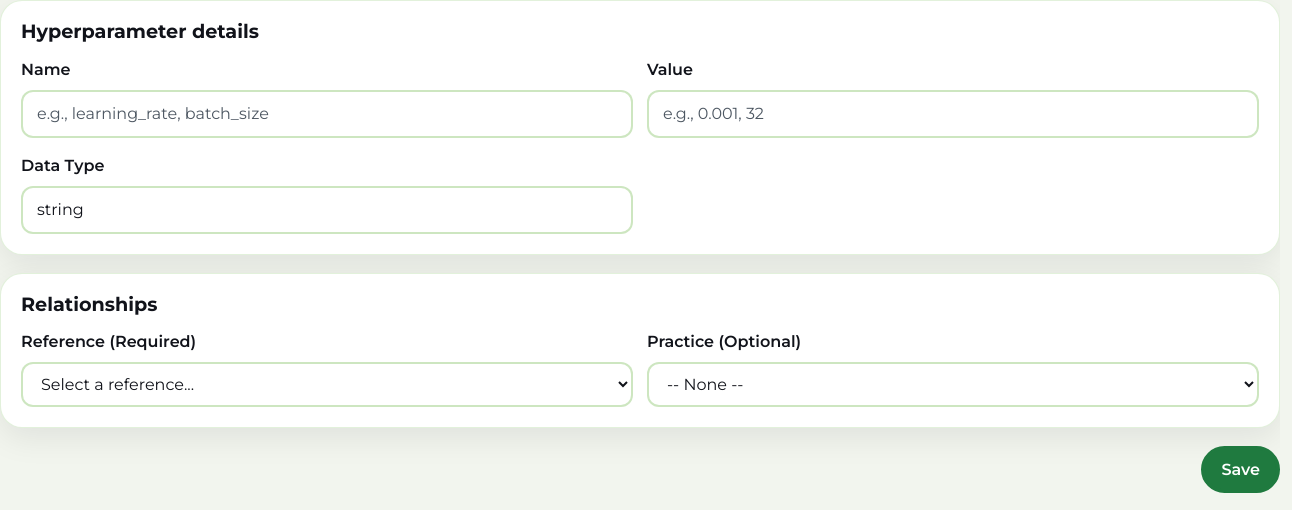
Scenario: HyperparameterForm › disables save button while saving
Step 1. Type "learning_rate" into the field labelled "Name" → (327, 114), box [21,90,633,138]
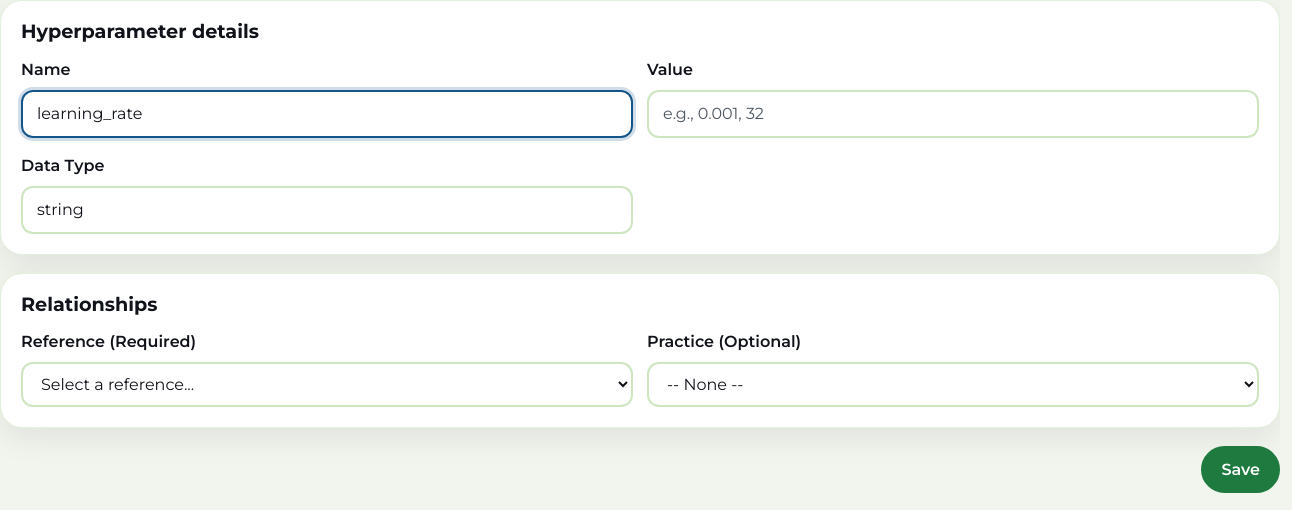
Step 2. Type "0.001" into the field labelled "Value" → (953, 114), box [647,90,1259,138]
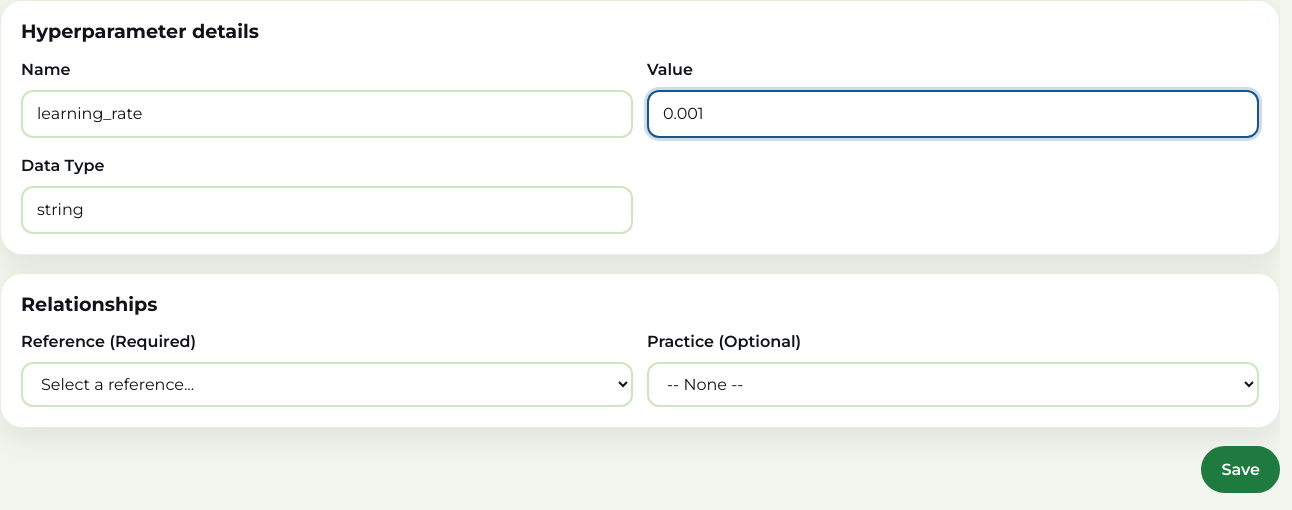
Step 3. Select "Paper A (2024)" in the dropdown labelled "Reference (Required)" → (327, 385), box [21,362,633,408]
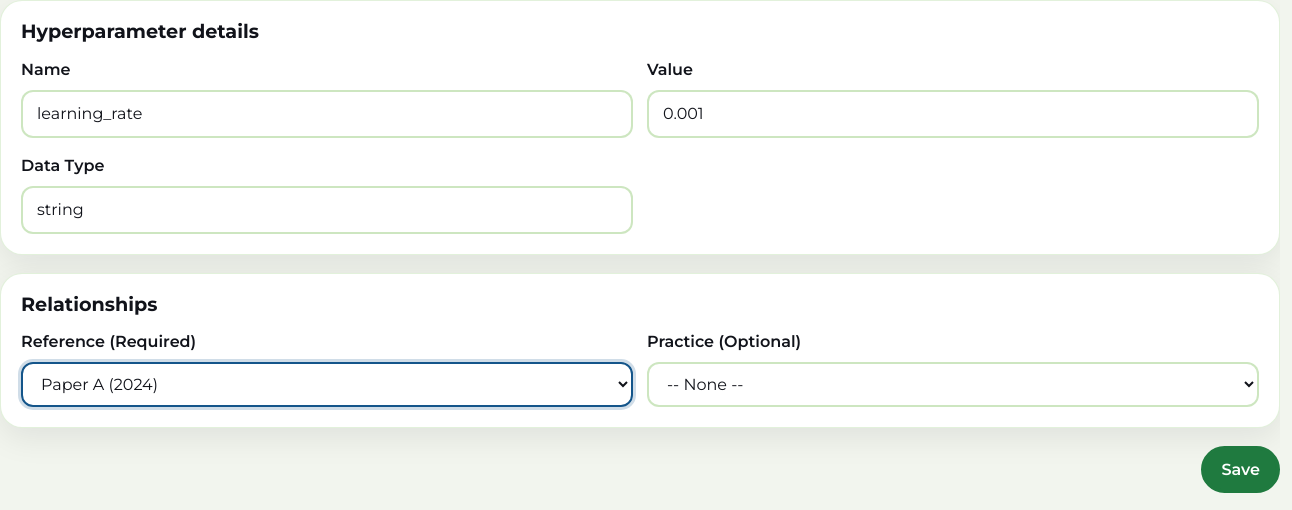
Step 4. Click the button "Save" → click(1241, 470), box [1201,446,1280,494]
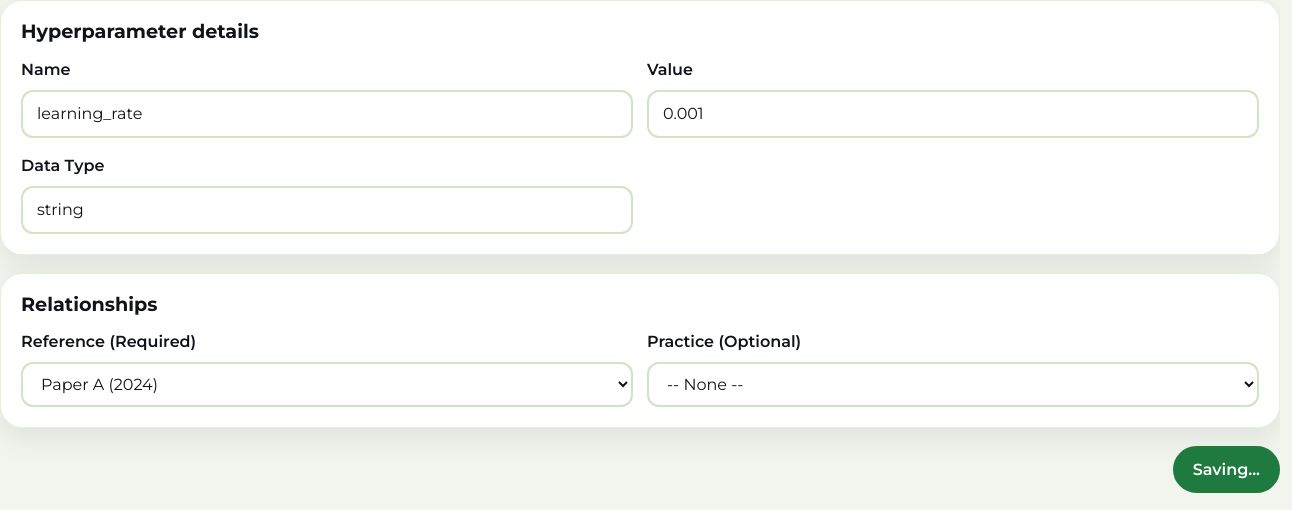
Expected: the button named "save" is disabled, [1173,446,1280,494]
